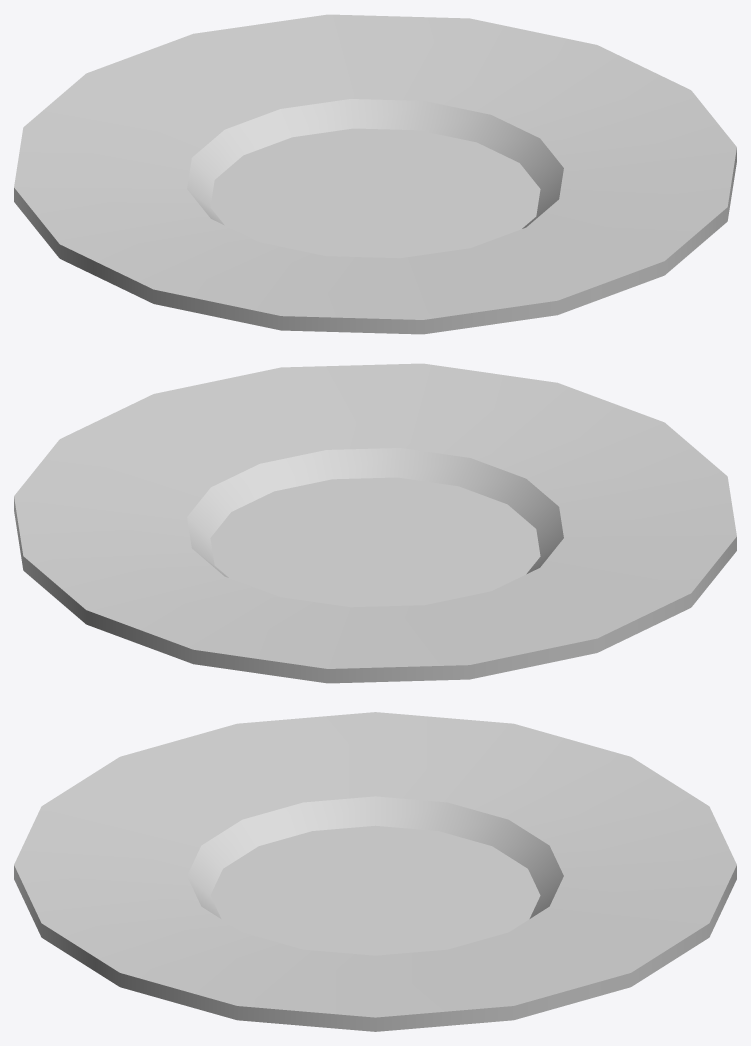
Rendered from Saucer_01.fbx.
The picture shows the model from 3 angles, top to bottom: view 1: azimuth 30°, elevation 25°; view 2: azimuth 150°, elevation 25°; view 3: azimuth 270°, elevation 25°; orthographic projection.
Visible parts, largest first — view 1: Saucer_01; view 2: Saucer_01; view 3: Saucer_01.
Part boxes in pixels (x1=…): Saucer_01: x1=14, y1=14, x2=736, y2=334; Saucer_01: x1=14, y1=363, x2=736, y2=683; Saucer_01: x1=14, y1=712, x2=736, y2=1031.
Size of the model in its own units: 0.1122 by 0.0113 by 0.1122.
